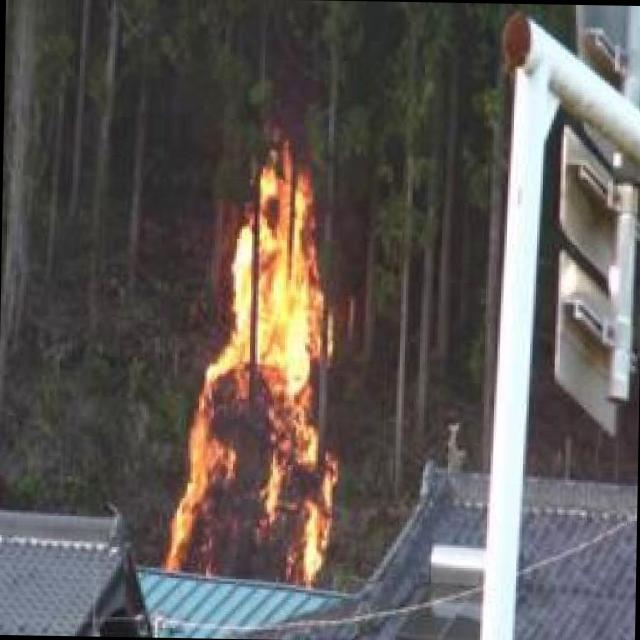Fire: (166, 152, 338, 590)
